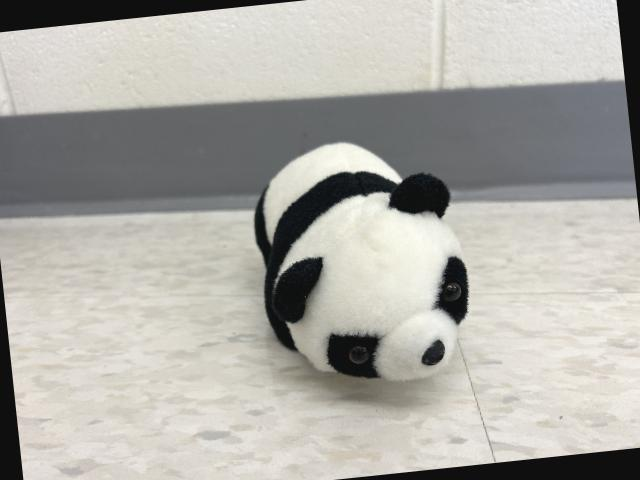panda_plushie: (248, 130, 480, 396)
